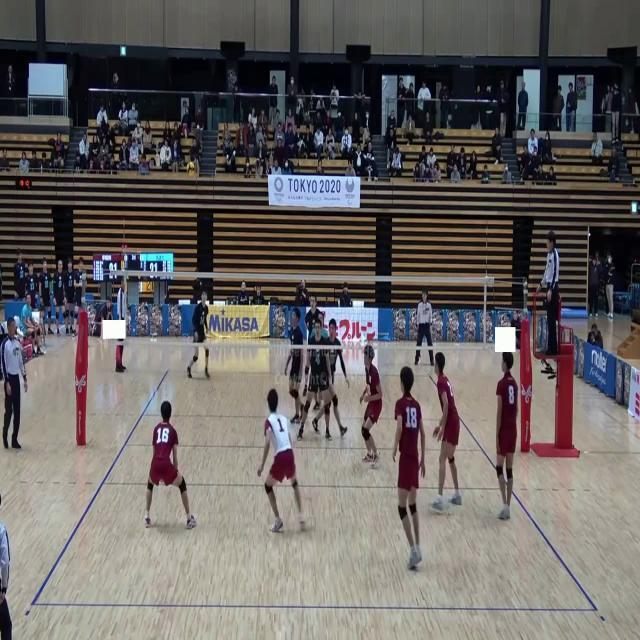volleyball: (187, 162, 196, 178)
